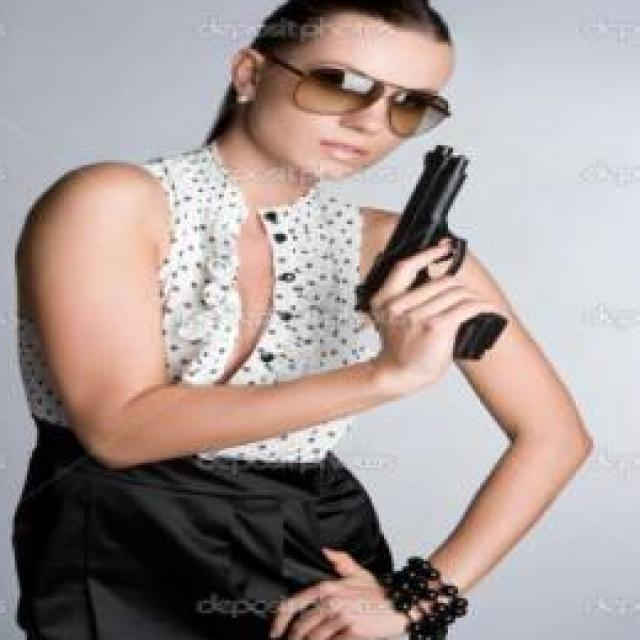pistol: (347, 145, 505, 374)
